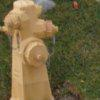Hydrant: (3, 2, 67, 100)
